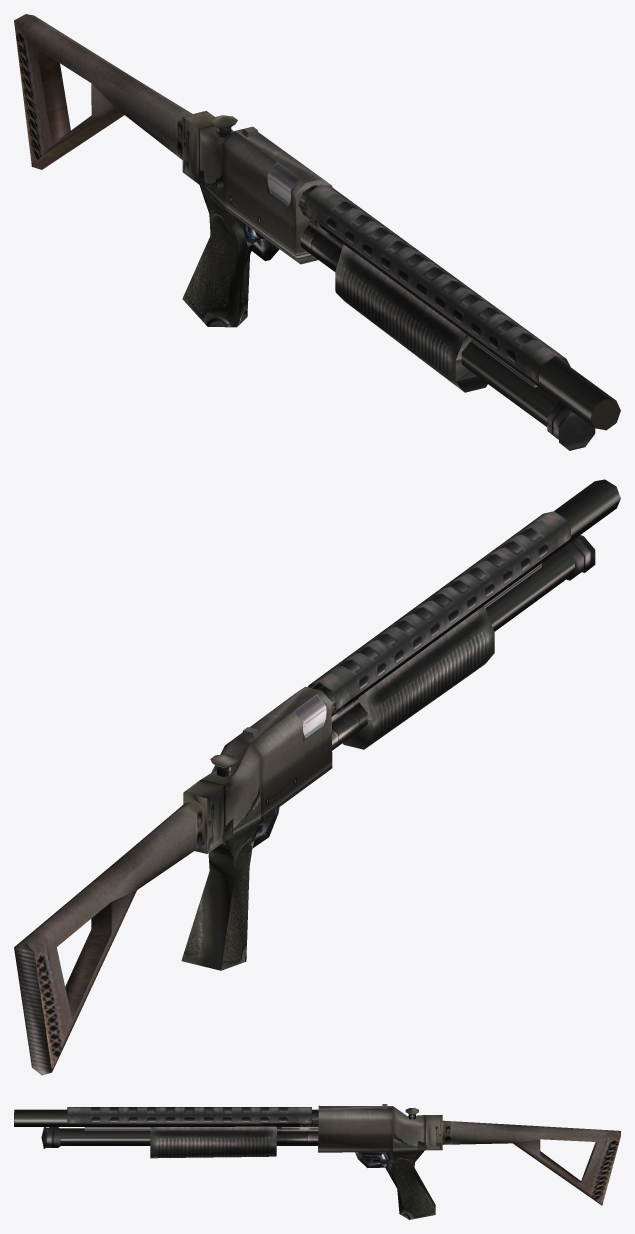
Rendered from shtg_3rd.glb.
3 renders of one model, top to bottom at view 1: azimuth 30°, elevation 25°; view 2: azimuth 150°, elevation 25°; view 3: azimuth 270°, elevation 25°, orthographic. The views are drawn at different scales.
Visible parts, largest first — view 1: _shtg_3rd; view 2: _shtg_3rd; view 3: _shtg_3rd.
Part boxes in pixels (left/top/right/bottom): _shtg_3rd: left=14, top=14, right=620, bottom=450; _shtg_3rd: left=14, top=479, right=620, bottom=1075; _shtg_3rd: left=14, top=1104, right=620, bottom=1219.
Bounding box in the file's own units: 0.0395 × 0.1981 × 0.9958.
1 material, 1 textured.
